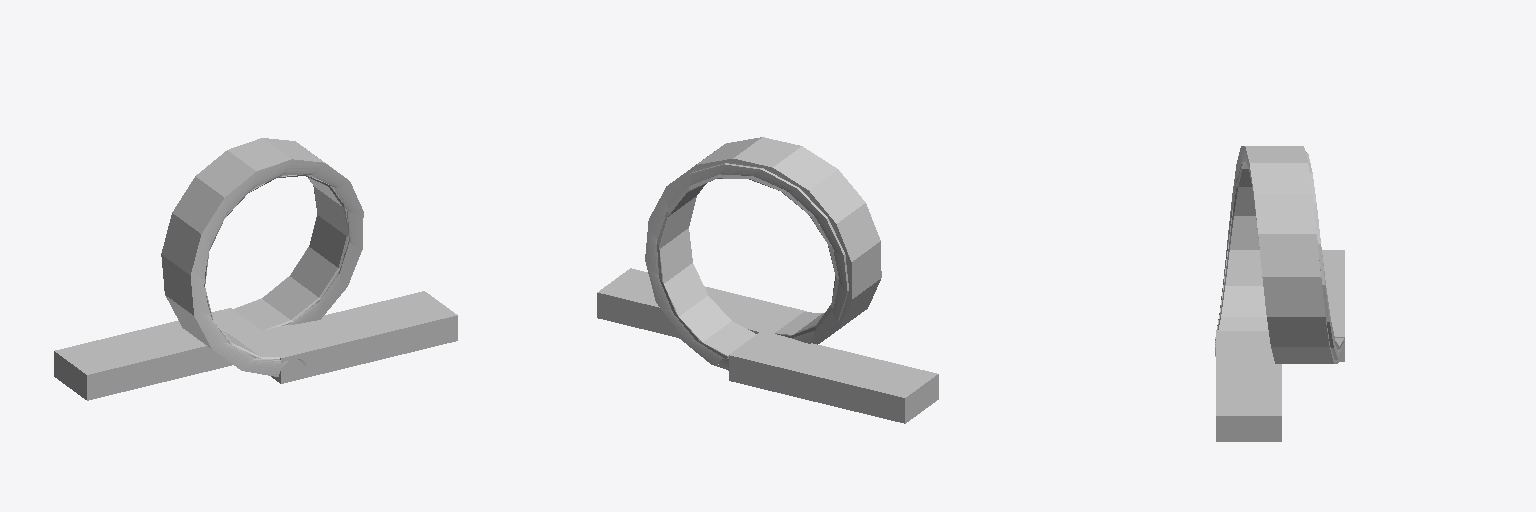
Rendered from mapa.obj.
3 renders of one model, left to right at view 1: azimuth 30°, elevation 25°; view 2: azimuth 150°, elevation 25°; view 3: azimuth 270°, elevation 25°, orthographic.
Parts seen in each view (by area): view 1: Círculo, pisop1.2, pisop1.1; view 2: Círculo, pisop1.1, pisop1.2; view 3: Círculo, pisop1.2, pisop1.1.
Part boxes in pixels (x1,y1,x2,y2): Círculo: (161, 138, 363, 376); pisop1.2: (252, 291, 457, 383); pisop1.1: (54, 308, 262, 400); Círculo: (645, 137, 881, 370); pisop1.1: (729, 331, 938, 423); pisop1.2: (597, 268, 806, 337); Círculo: (1215, 146, 1343, 363); pisop1.2: (1216, 330, 1281, 441); pisop1.1: (1322, 250, 1344, 361).
Size of the model in its own units: 55.25 by 31.99 by 18.23.